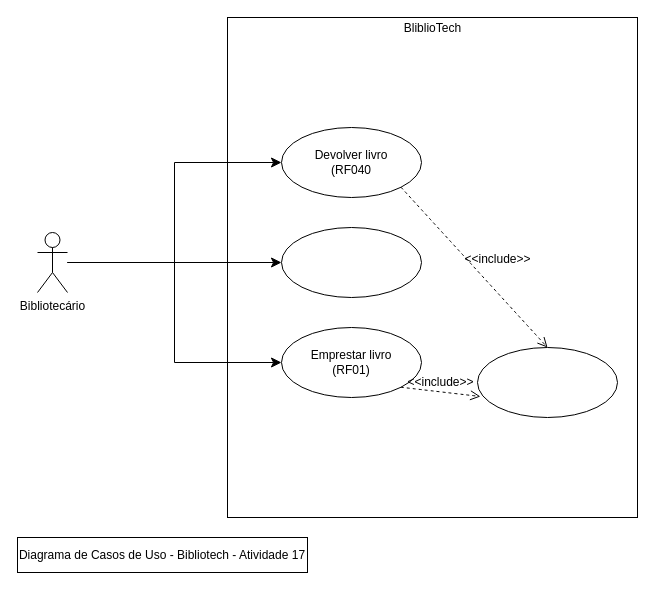
This 655x590 diagram has some shape labels left out. Here are the shapes that lost their labels. From the top down, the centre of each, then its label:
At (351,262): "Cadastrar leitor (RF02)".
At (547,382): "Buscar livro do acervo (RF03)".
